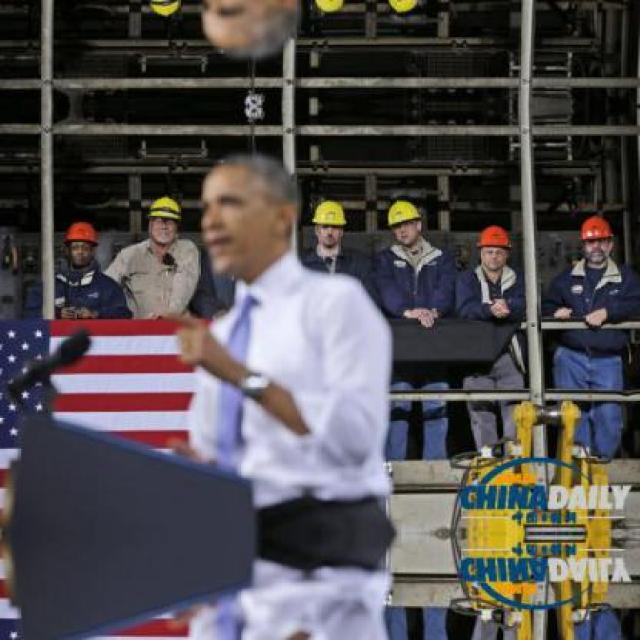helmet: (383, 197, 423, 246), (63, 219, 100, 270), (474, 223, 511, 274), (309, 198, 346, 248), (576, 216, 616, 261), (145, 193, 178, 243), (383, 0, 425, 17), (144, 0, 178, 20), (309, 0, 347, 15)
